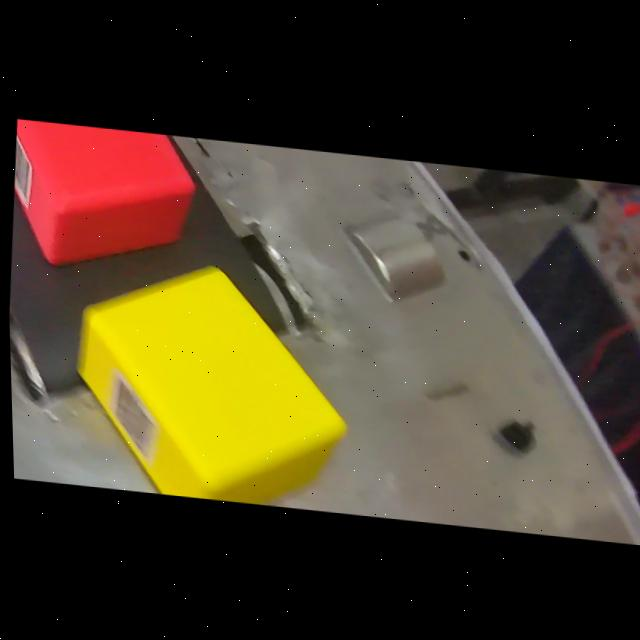redBox: (6, 118, 208, 287)
yellowBox: (61, 244, 358, 512)
